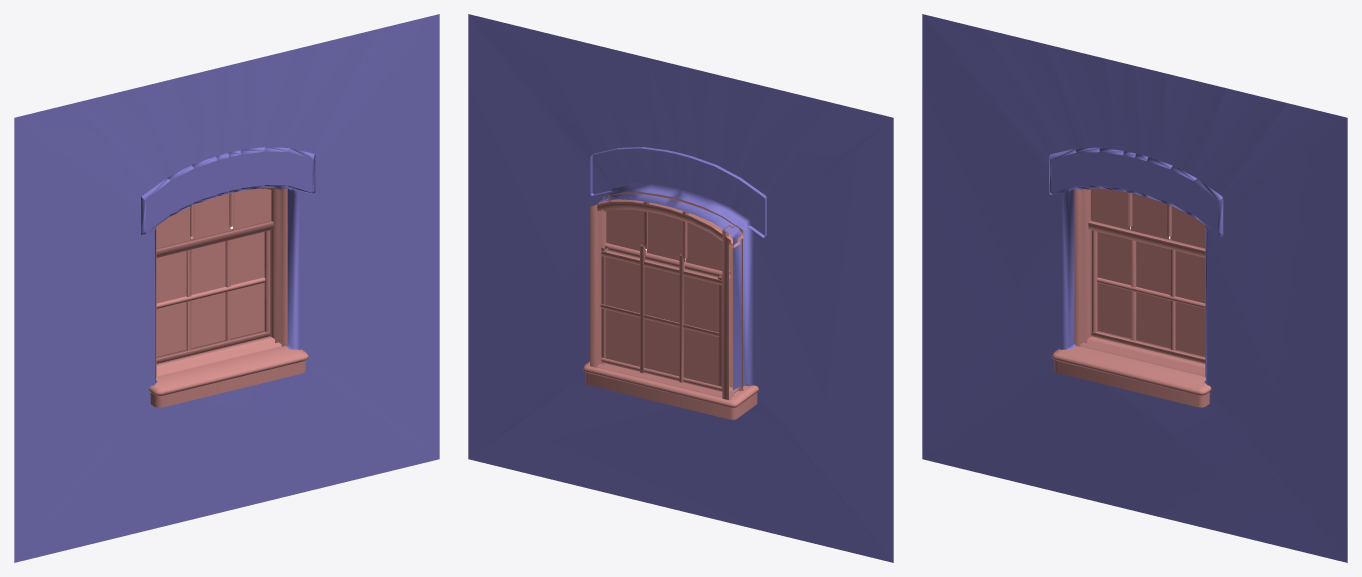
File: window_03.fbx
3 renders of one model, left to right at view 1: azimuth 30°, elevation 25°; view 2: azimuth 150°, elevation 25°; view 3: azimuth 330°, elevation 25°, orthographic.
Parts seen in each view (by area): view 1: Plane.019, Plane.020; view 2: Plane.019, Plane.020; view 3: Plane.019, Plane.020.
Boxes of the visible parts, x1,y1,x2,y2 form: Plane.019: (14, 14, 439, 562); Plane.020: (149, 187, 308, 407); Plane.019: (468, 14, 893, 562); Plane.020: (583, 192, 758, 419); Plane.019: (922, 14, 1347, 562); Plane.020: (1052, 188, 1211, 407).
Size of the model in its own units: 4 by 4 by 0.5096.
